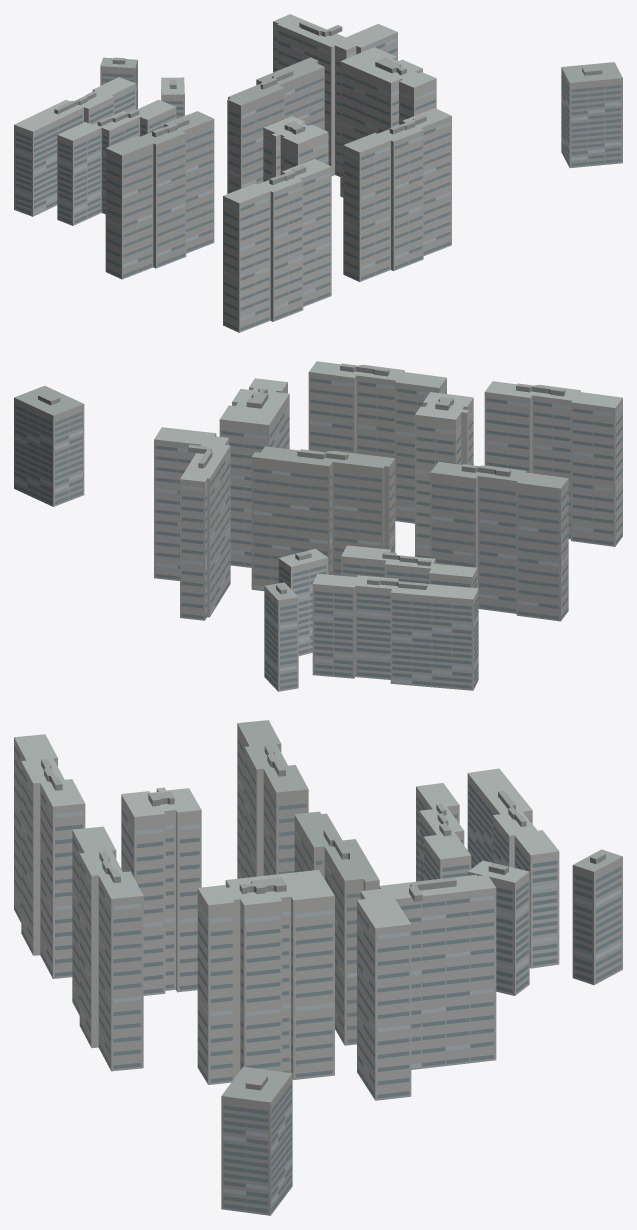
The model's file is apt-a13187702.glb.
3 views of the same model, one above another, from view 1: azimuth 30°, elevation 25°; view 2: azimuth 150°, elevation 25°; view 3: azimuth 270°, elevation 25° (orthographic). The views are drawn at different scales.
Visible parts, largest first — view 1: apt-a13187702; view 2: apt-a13187702; view 3: apt-a13187702.
Part boxes in pixels (x1=…): apt-a13187702: x1=14, y1=14, x2=622, y2=332; apt-a13187702: x1=14, y1=361, x2=622, y2=691; apt-a13187702: x1=14, y1=720, x2=622, y2=1215.
Bounding box in the file's own units: 289 × 75 × 223.
